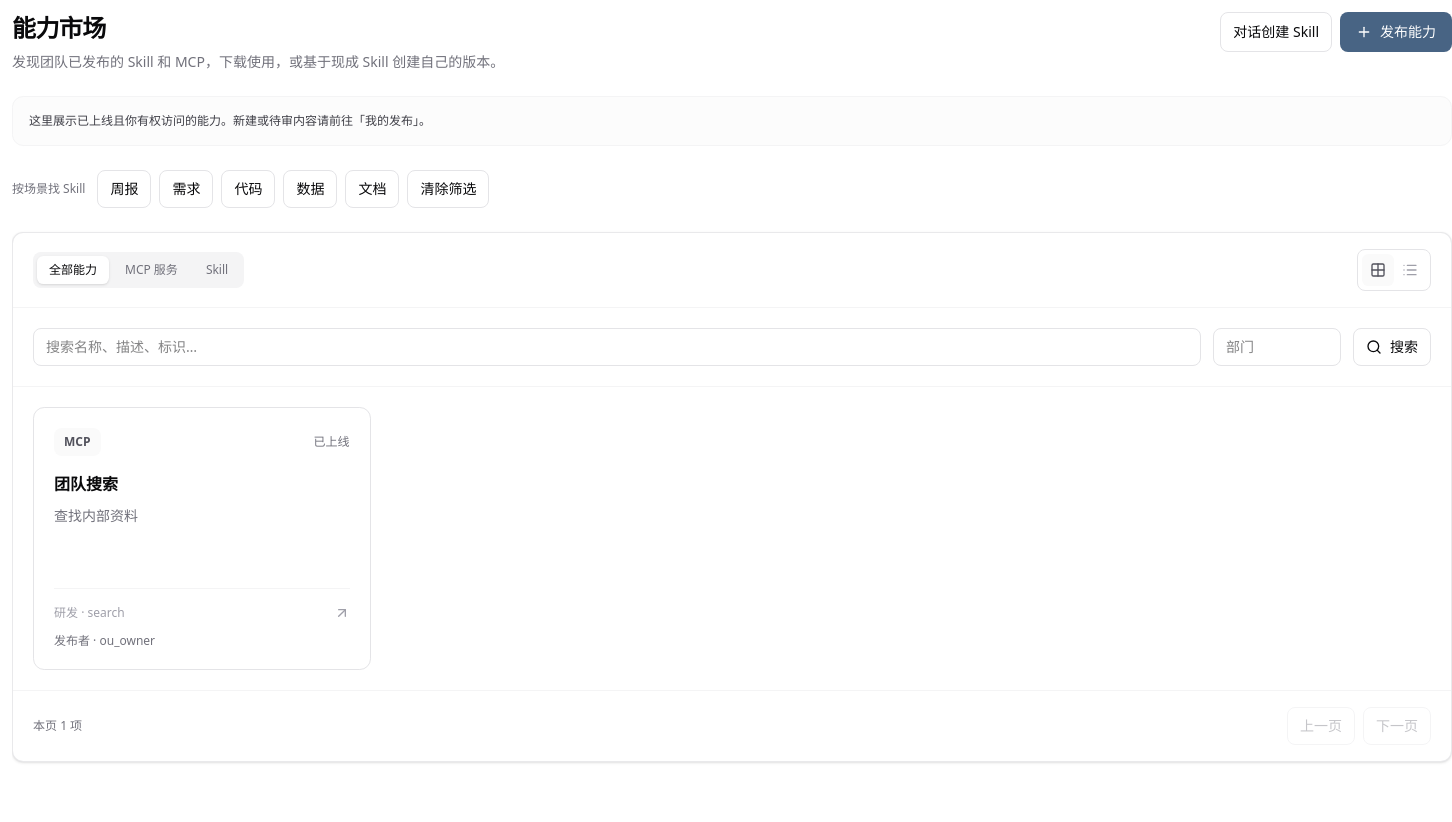
shows saved capabilities in cards and table with navigation
Click the button named "表格视图" at (1410, 270), box left=1394, top=254, right=1426, bottom=286
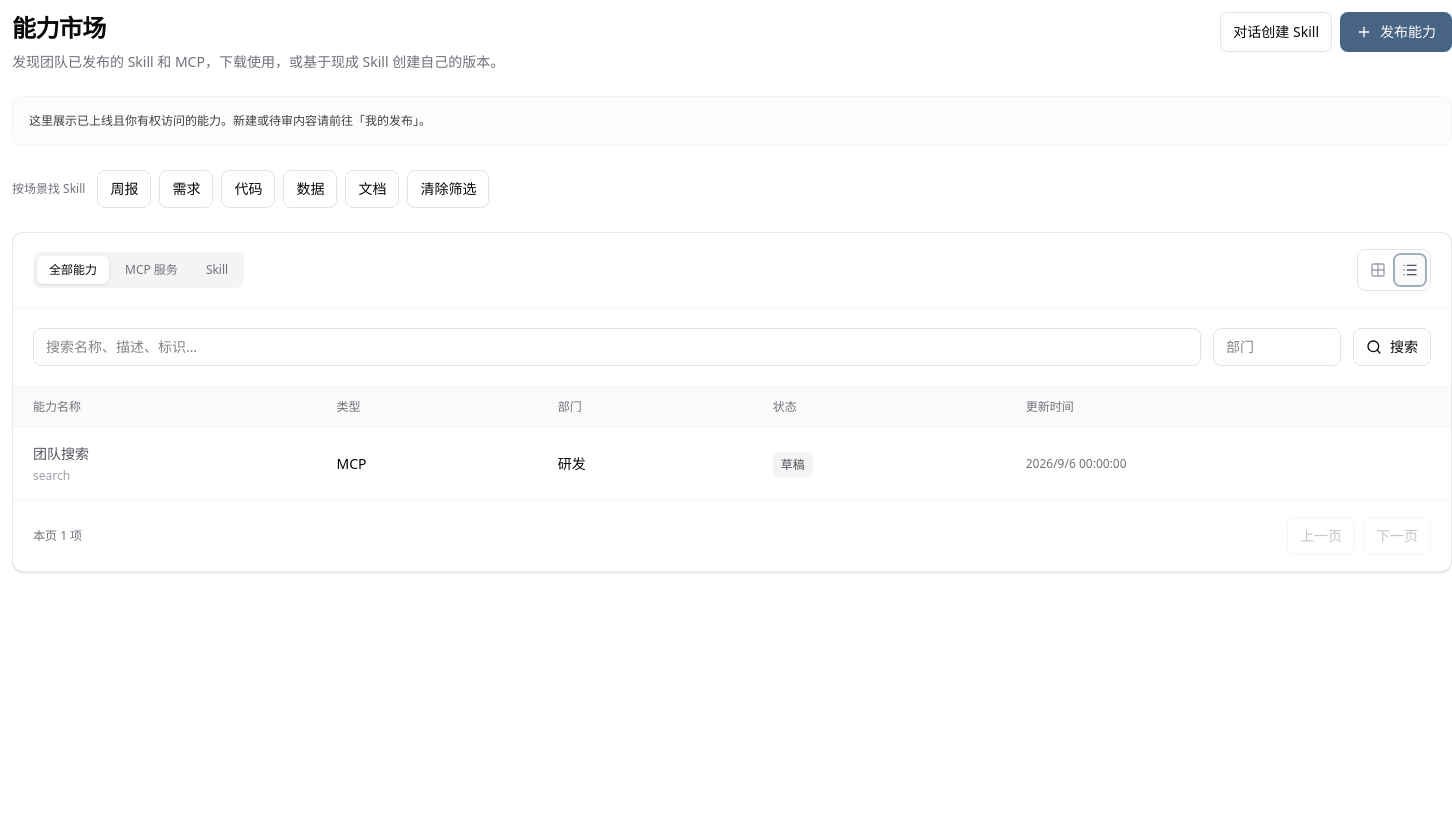
Expected: the table named "能力列表" is shown, left=13, top=387, right=1451, bottom=500
Expected: the number of column headings is 5, left=13, top=387, right=316, bottom=427; left=316, top=387, right=538, bottom=427; left=538, top=387, right=753, bottom=427; left=753, top=387, right=1006, bottom=427; left=1006, top=387, right=1451, bottom=427
Click the button named "卡片视图" at (1378, 270), box left=1362, top=254, right=1394, bottom=286
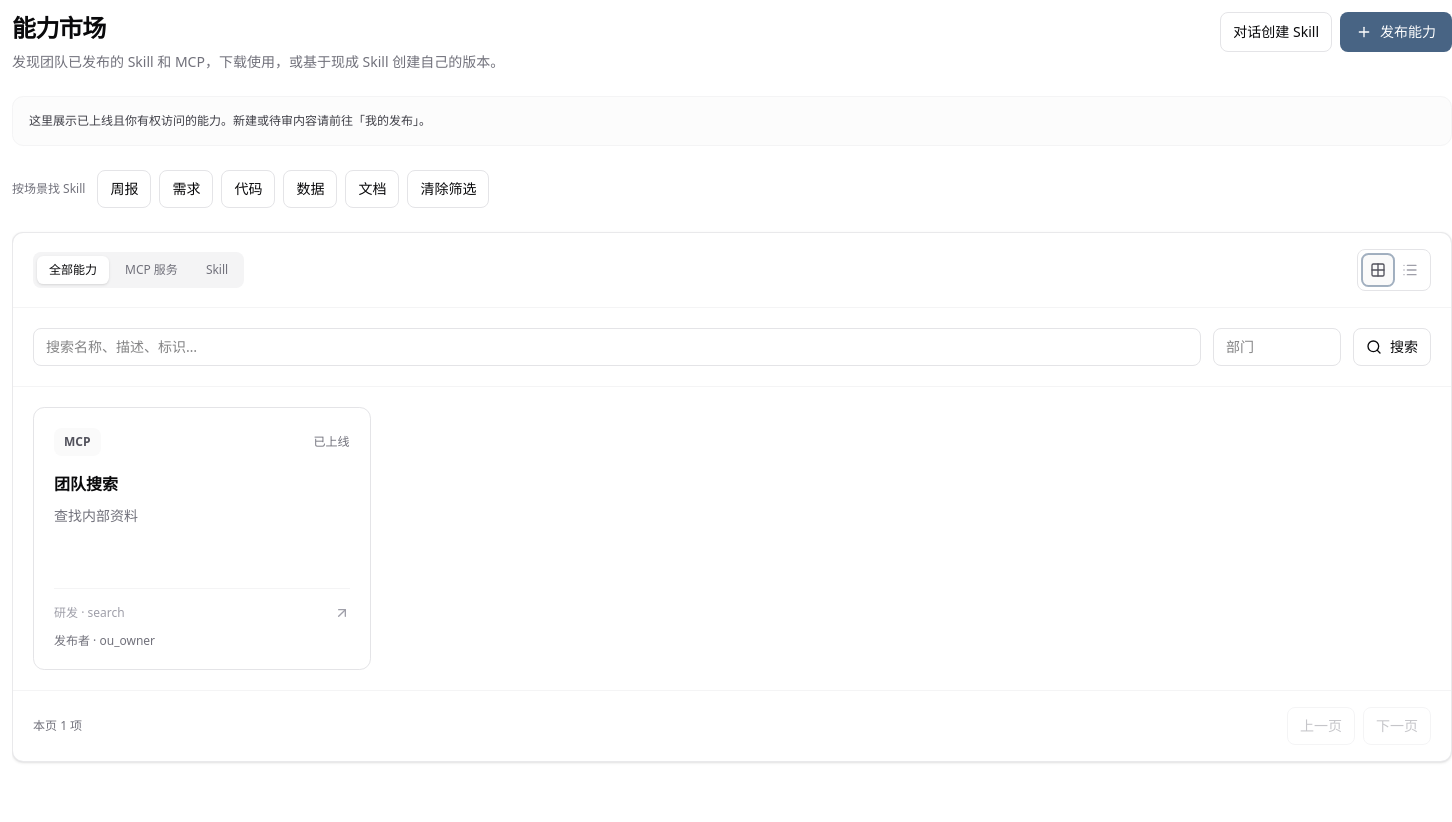
Expected: the table is gone
